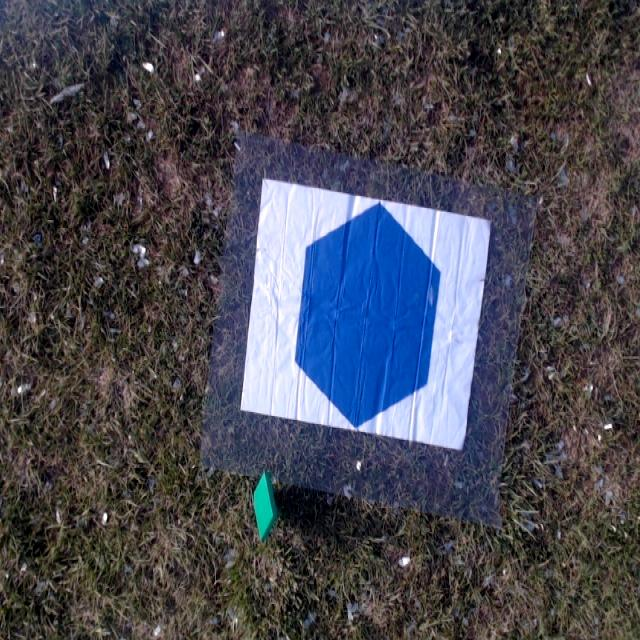blue_hexagon: (294, 200, 442, 432)
